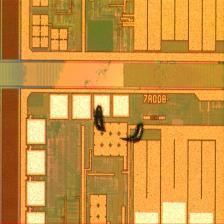PARTICLE: (90, 103, 149, 148)
